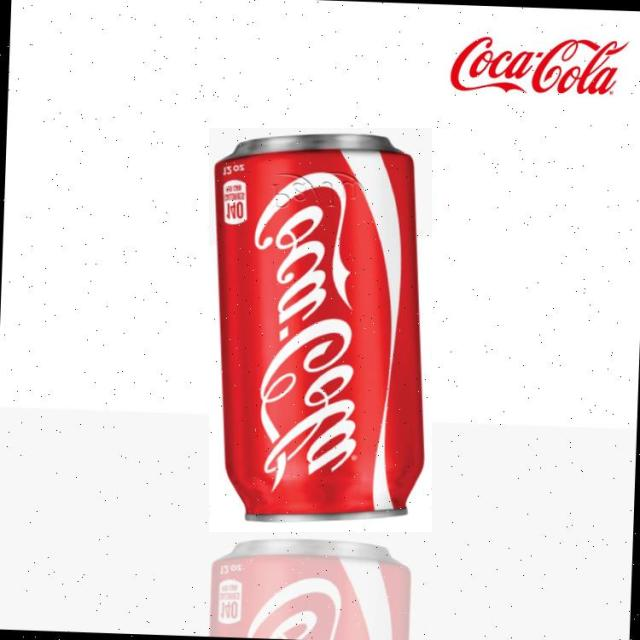coca-cola: (209, 128, 432, 532)
